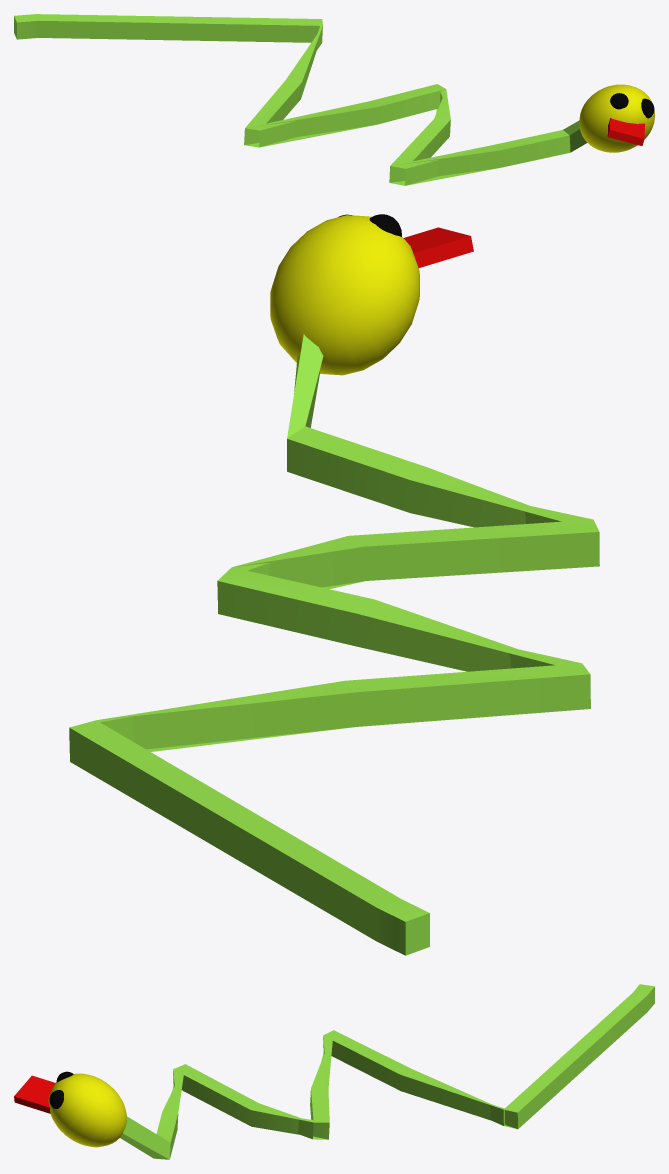
The model's file is condabeta2.0.fbx.
3 views of the same model, one above another, from view 1: azimuth 30°, elevation 25°; view 2: azimuth 150°, elevation 25°; view 3: azimuth 270°, elevation 25° (orthographic). The views are drawn at different scales.
Parts seen in each view (by area): view 1: pCube1, pSphere4, pCube2; view 2: pCube1, pSphere4, pCube2; view 3: pCube1, pSphere4, pCube2.
Boxes of the visible parts, left/top/right/bottom form: pCube1: left=14, top=14, right=587, bottom=185; pSphere4: left=579, top=84, right=654, bottom=152; pCube2: left=607, top=118, right=644, bottom=145; pCube1: left=69, top=334, right=599, bottom=955; pSphere4: left=270, top=215, right=419, bottom=375; pCube2: left=403, top=227, right=473, bottom=267; pCube1: left=120, top=984, right=654, bottom=1159; pSphere4: left=48, top=1073, right=126, bottom=1147; pCube2: left=14, top=1075, right=55, bottom=1113.
Size of the model in its own units: 6.42 by 1.59 by 10.16.
